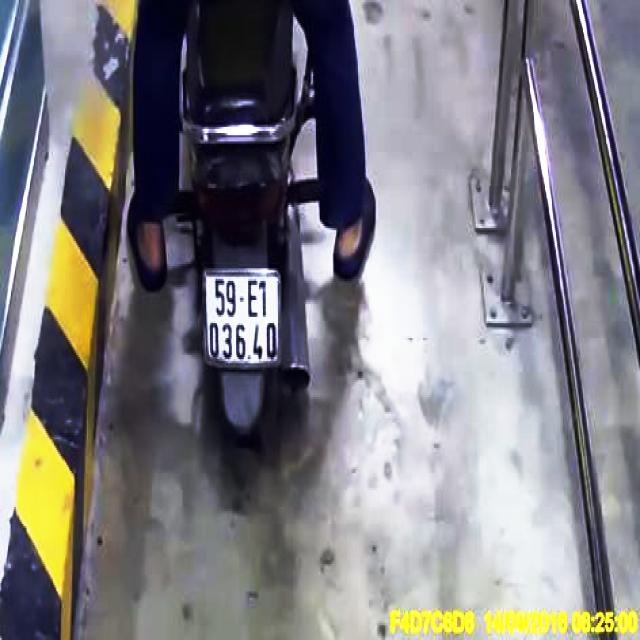license_plate: (205, 270, 282, 364)
